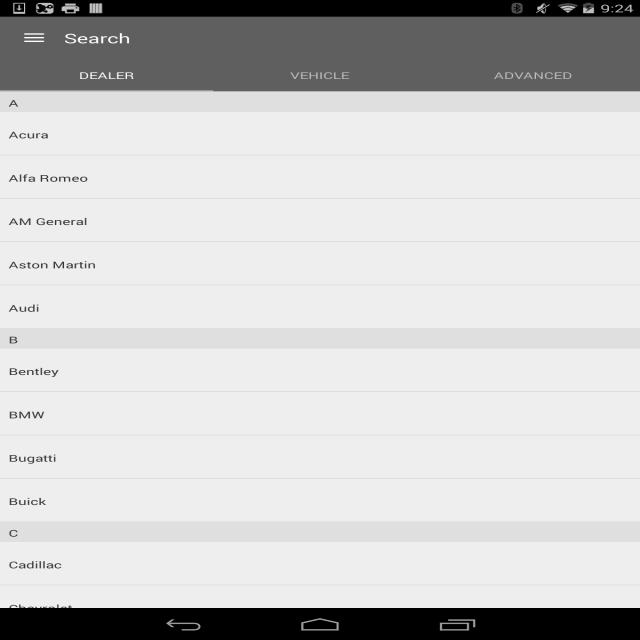ImageButton: (0, 19, 60, 57)
TextView: (0, 91, 640, 112), (0, 328, 640, 349), (0, 521, 640, 542), (0, 242, 97, 285), (0, 155, 88, 198), (0, 198, 87, 241), (0, 585, 73, 628), (0, 542, 62, 585), (0, 349, 59, 391), (0, 435, 57, 478), (0, 112, 49, 155), (0, 392, 45, 435), (0, 479, 46, 521), (0, 285, 39, 327), (64, 29, 131, 47), (494, 69, 572, 82), (290, 69, 349, 82), (79, 69, 134, 82)
